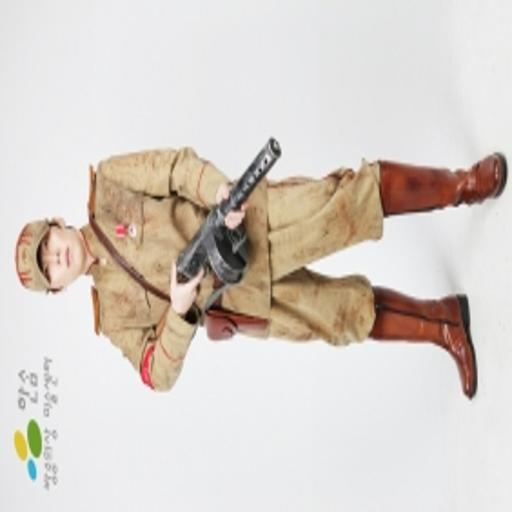north army: (10, 110, 486, 391)
